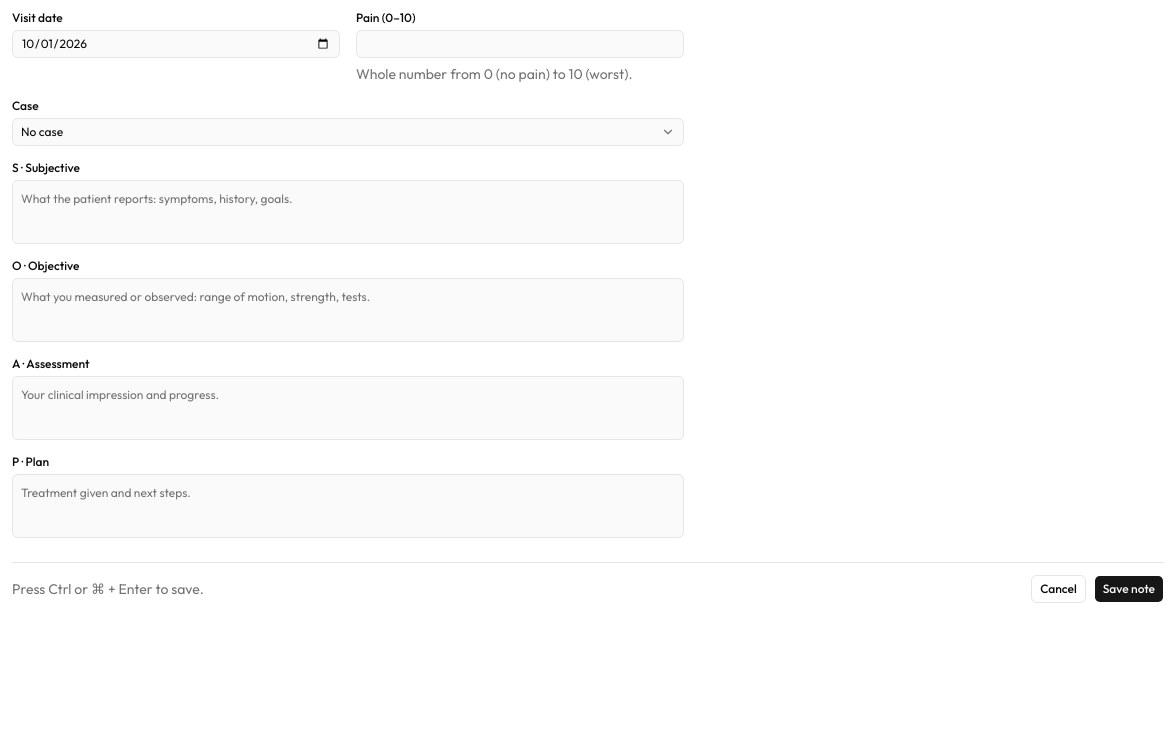
Scenario: NoteEditor › errors › shows field errors, interpolating the length limit, and keeps typed values
Type "Keep me" into the text box labelled "S · Subjective" at (348, 212), box left=12, top=180, right=684, bottom=244
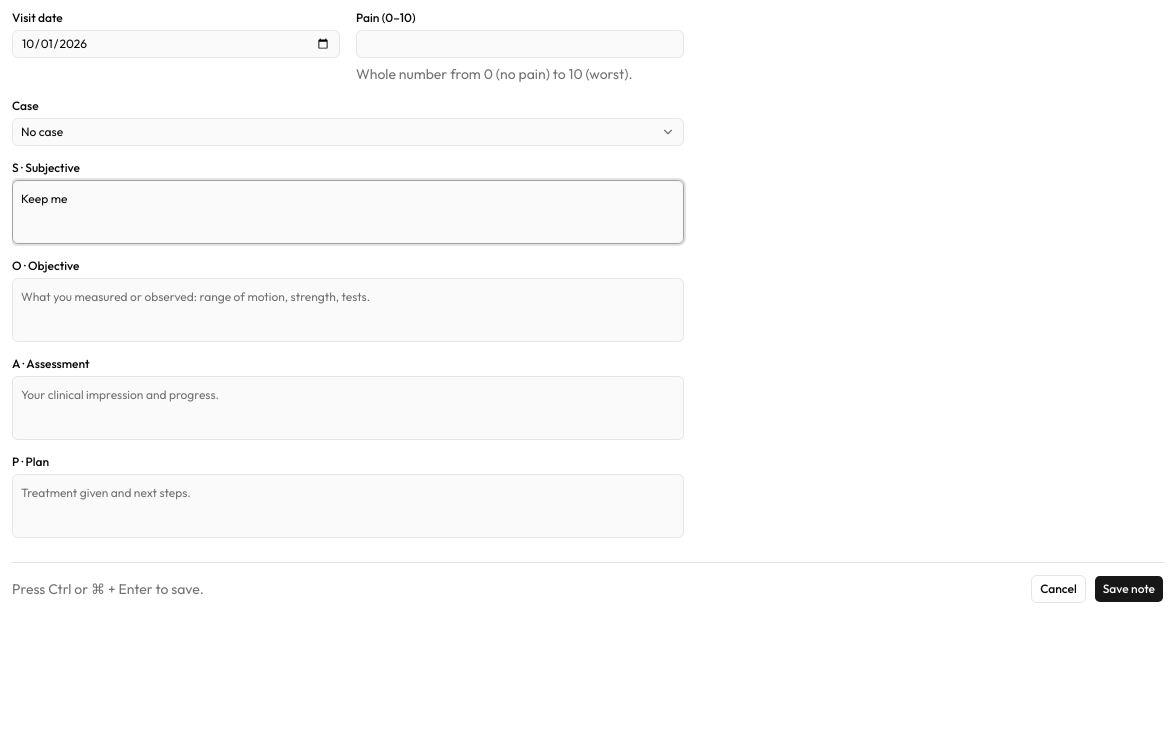
Click the button "Save note" at (1129, 589), box left=1094, top=575, right=1164, bottom=603
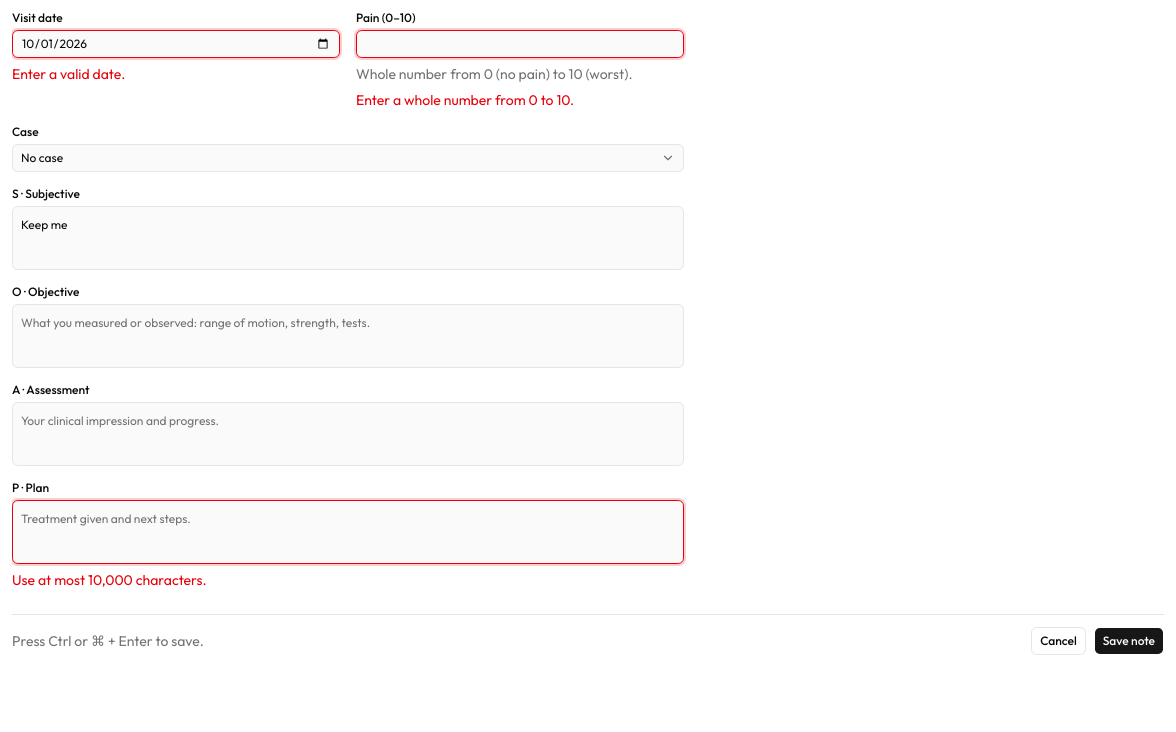
Check: the text "Use at most 10,000 characters." is shown, box left=12, top=571, right=207, bottom=589
Check: the text "Enter a whole number from 0 to 10." is shown, box left=356, top=91, right=574, bottom=109
Check: the text "Enter a valid date." is shown, box left=12, top=65, right=125, bottom=83
